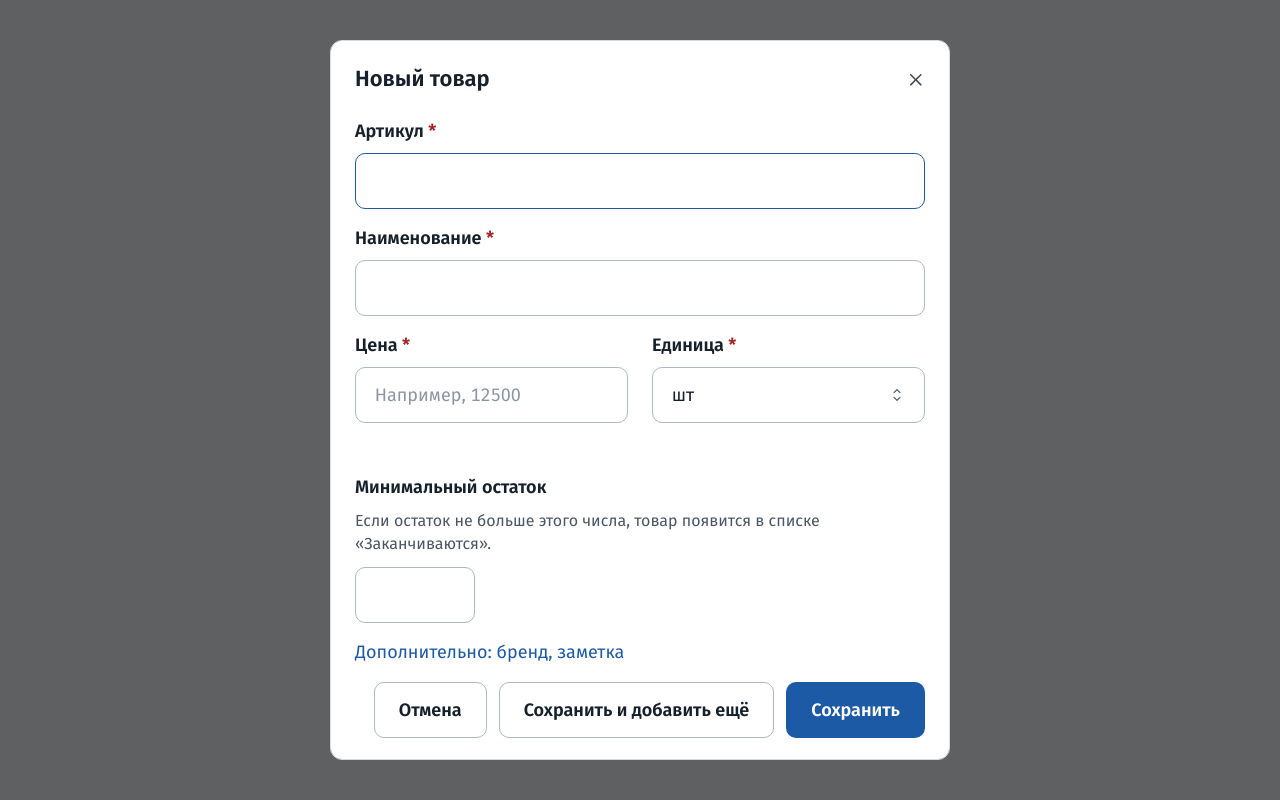
Test case: ProductFormModal › does not send the form with empty required fields
Click the button "Сохранить" at (856, 710), box x1=786 y1=682 x2=925 y2=738
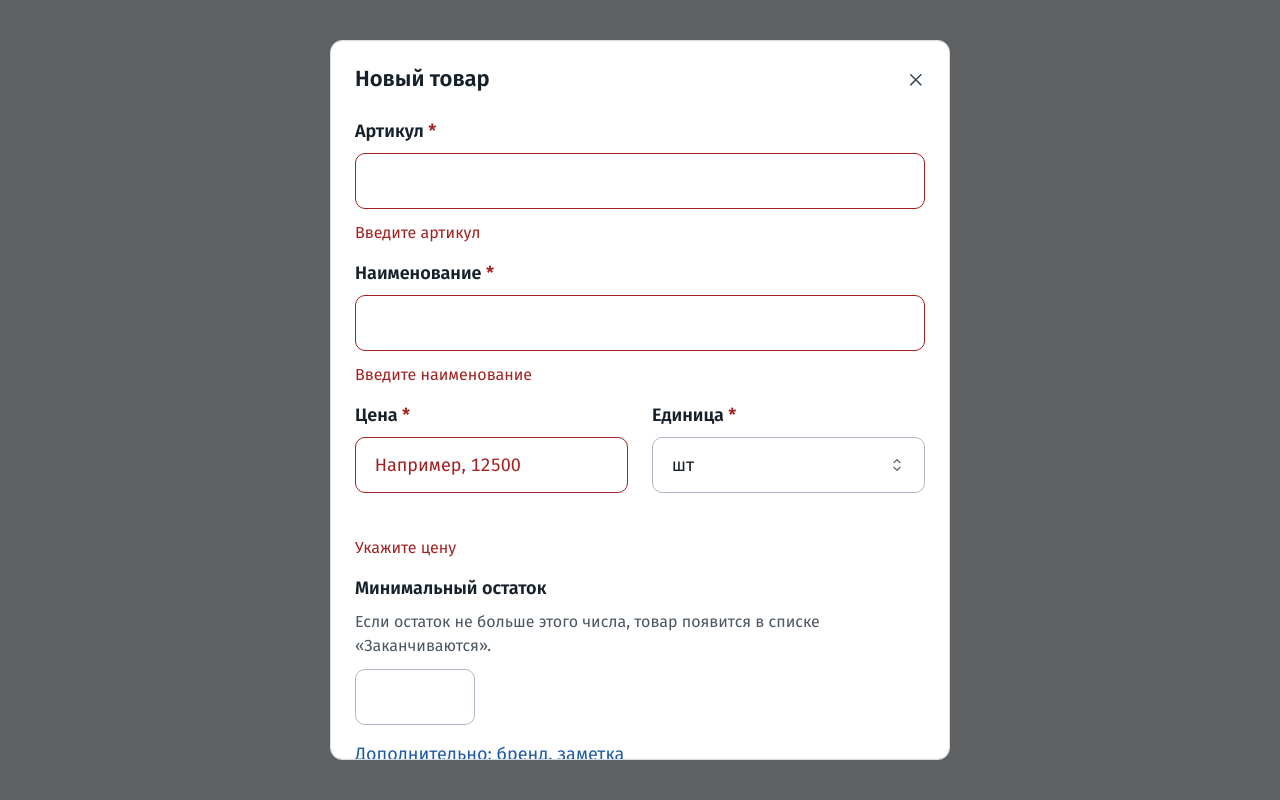
Expected: the text "Введите артикул" is shown, x1=355 y1=223 x2=480 y2=242
Expected: the text "Введите наименование" is shown, x1=355 y1=365 x2=532 y2=384
